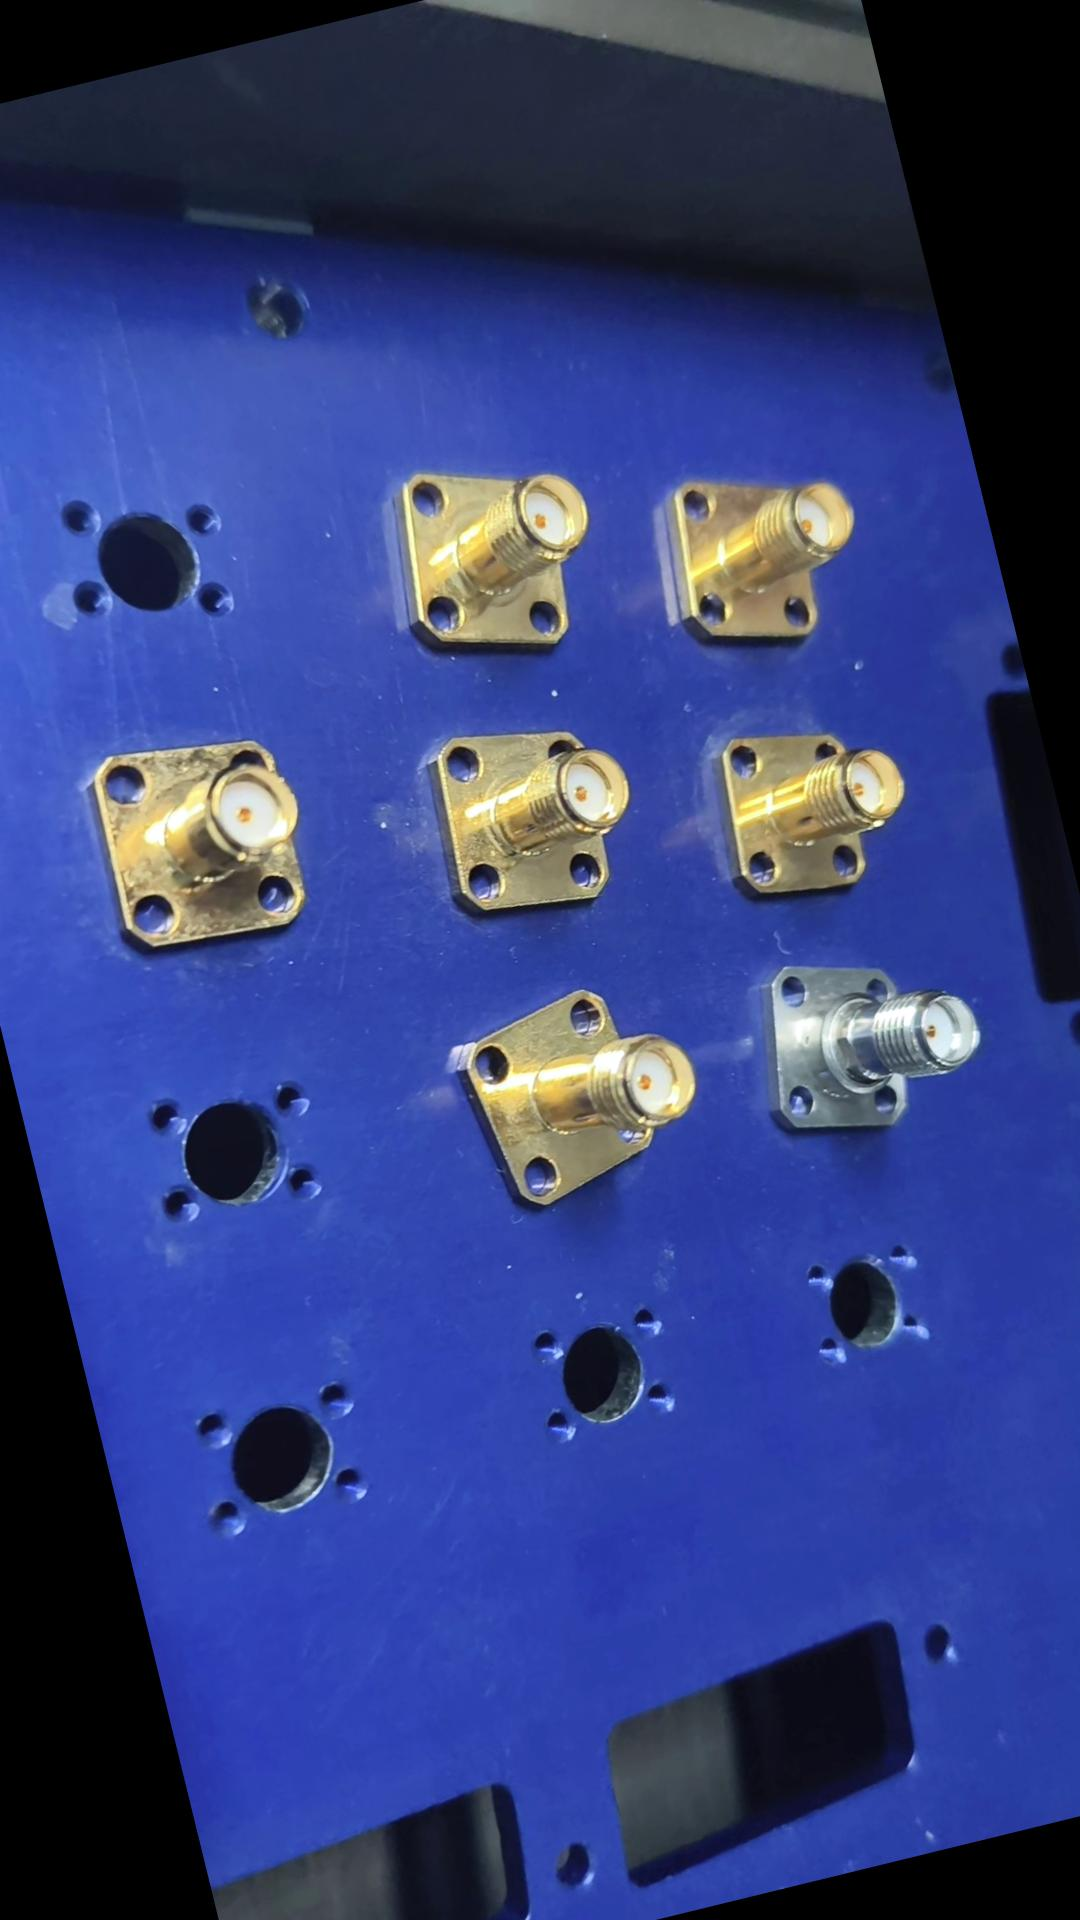SMA: (440, 965, 716, 1221), (73, 713, 328, 969), (732, 922, 1000, 1156), (405, 699, 659, 938), (364, 435, 609, 682), (644, 448, 882, 669), (695, 696, 927, 916)
